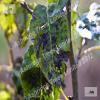Apple Scab Leaf: (29, 2, 69, 89)
